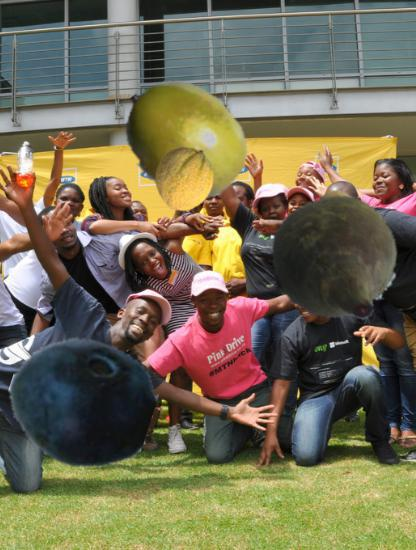Beetroot: (269, 194, 404, 329)
Blueberry: (8, 330, 153, 475)
Cantaloupe: (151, 146, 217, 212)
Maracuja: (119, 73, 253, 207)
Potato: (306, 187, 386, 267)
